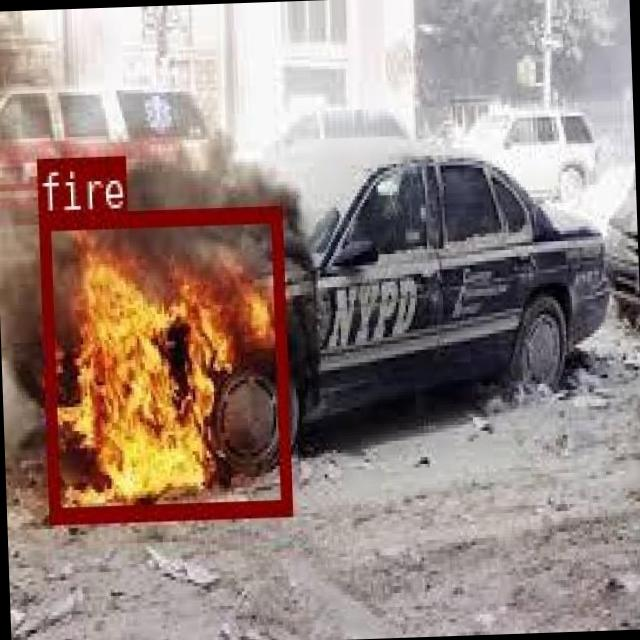fire: (37, 203, 290, 520)
